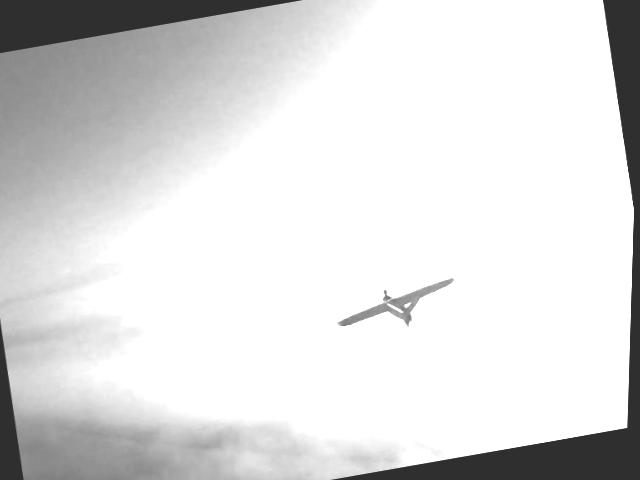hedef: (325, 262, 471, 349)
